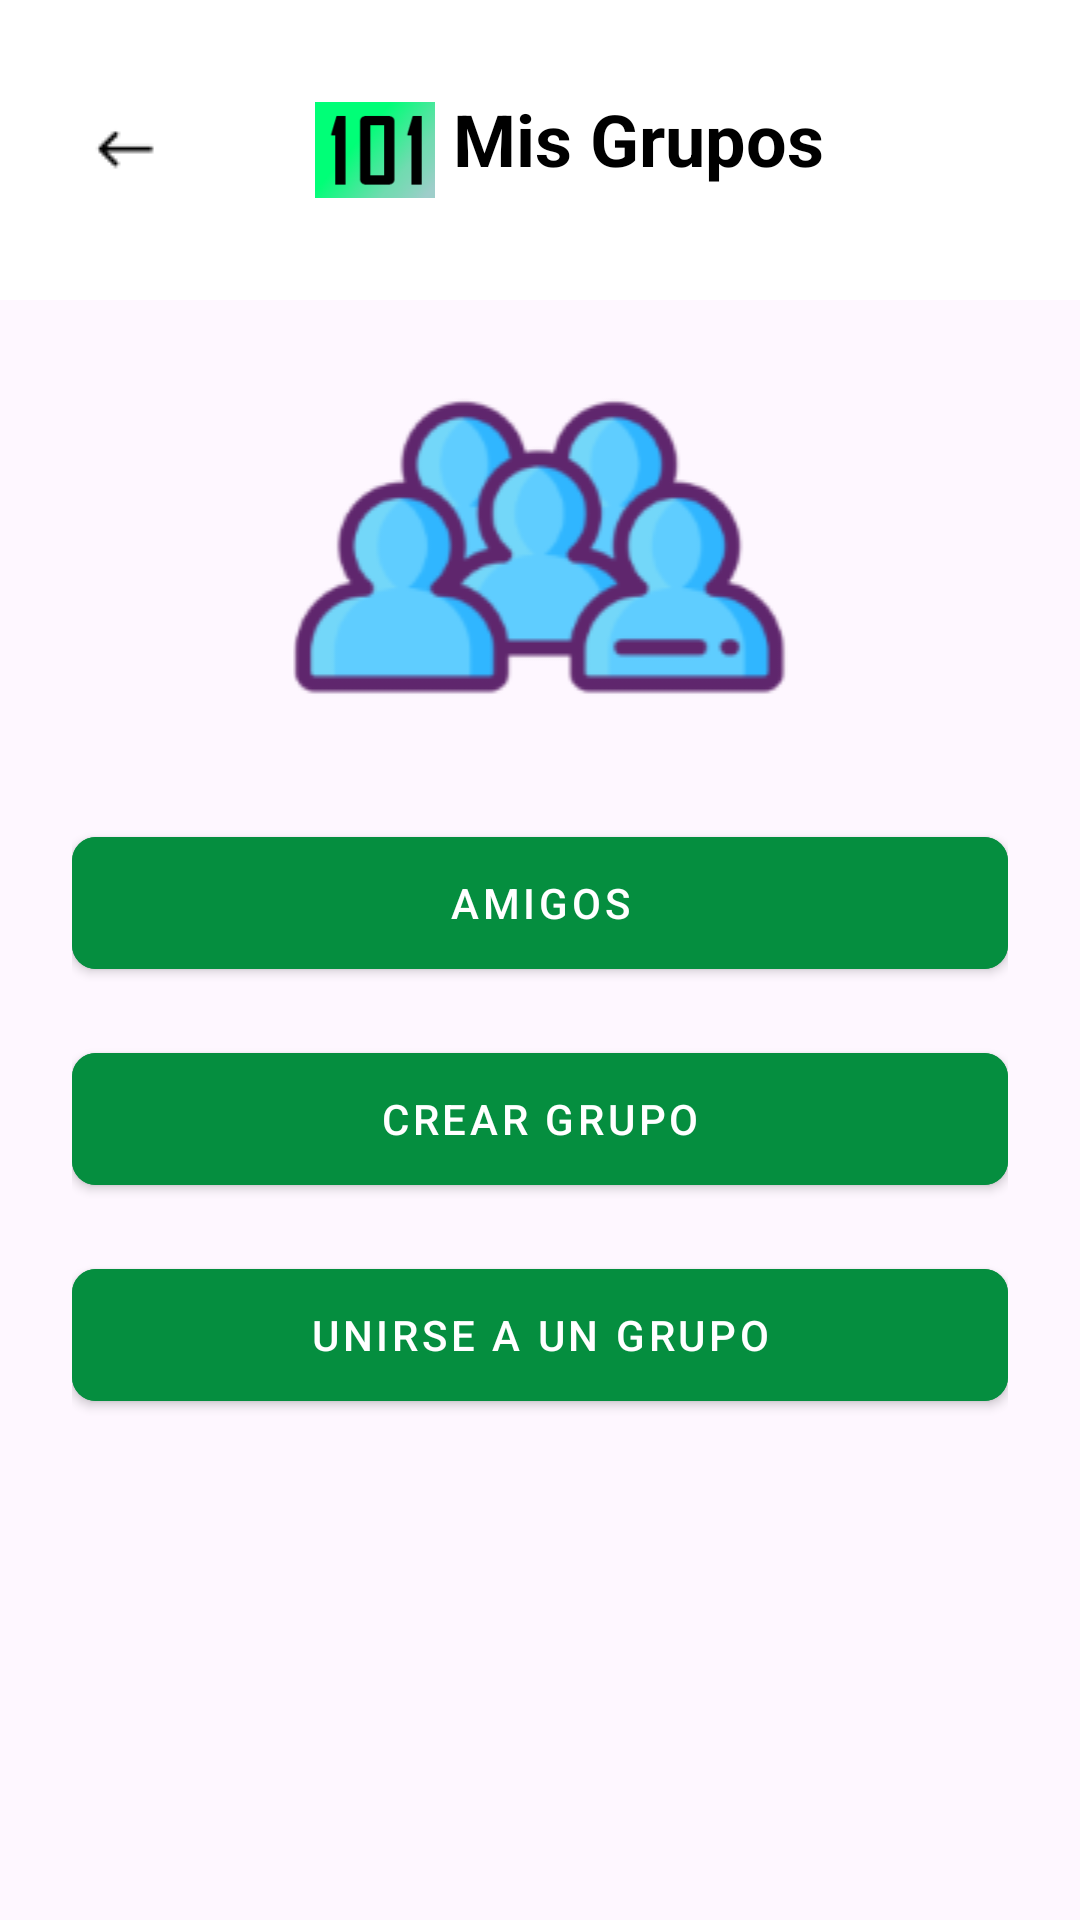

Named icons in this screenshot (1080px x 1920px) and their bounding boxes, (x1, y1, x2, y2):
flecha: (98, 131, 154, 169)
